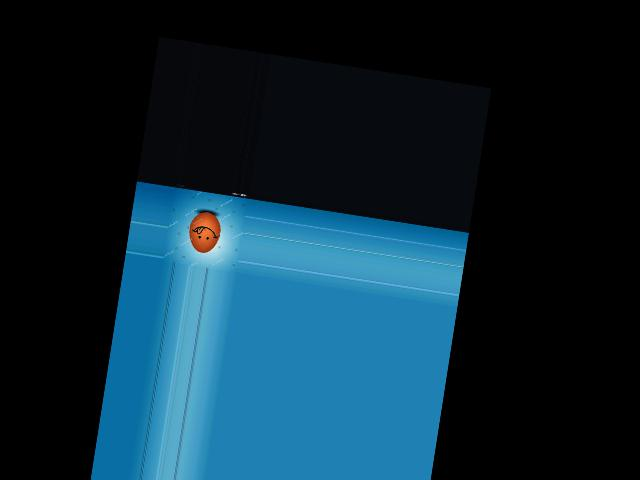egg: (185, 209, 222, 255)
